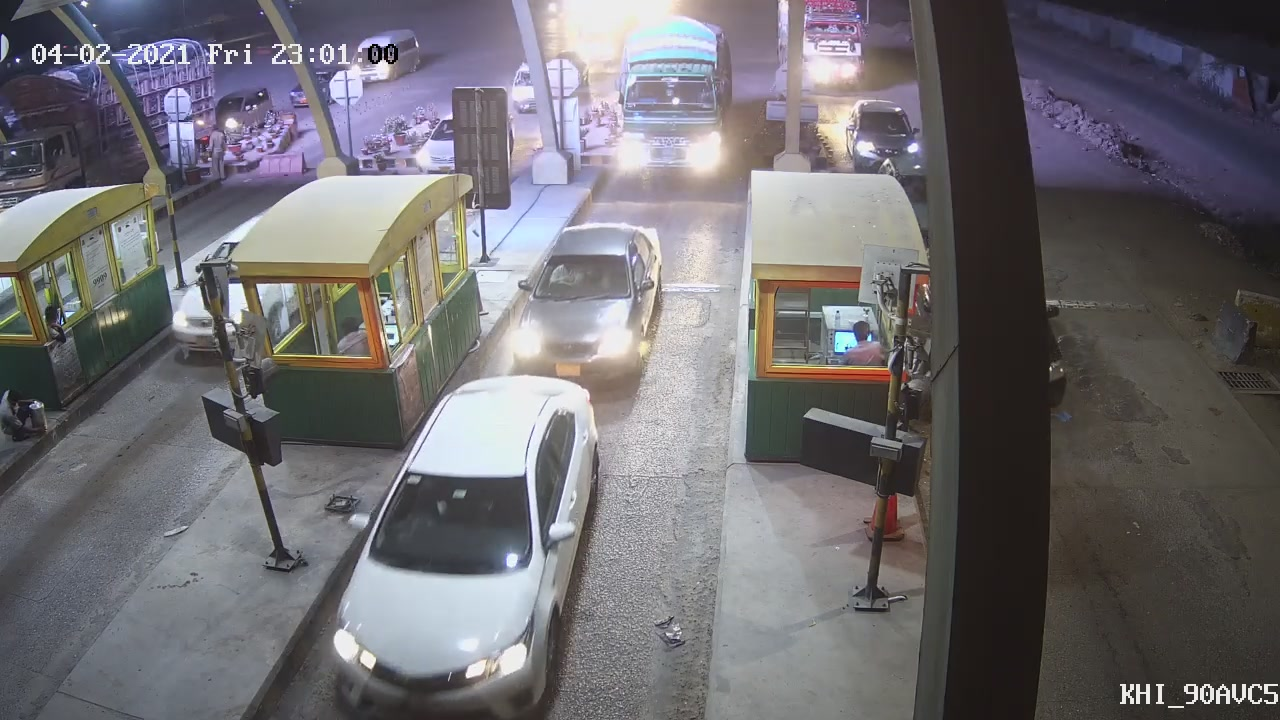F1: (323, 370, 600, 718), (501, 214, 678, 395)
